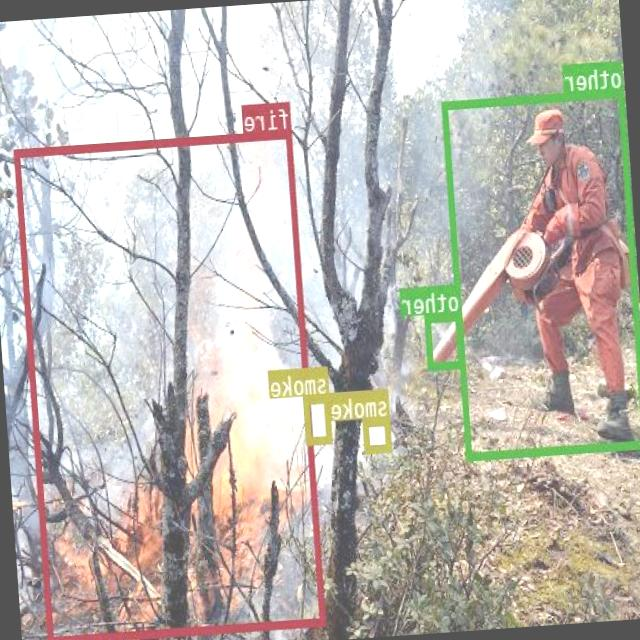fire: (14, 128, 326, 640)
smoke: (304, 394, 334, 444), (363, 414, 392, 452)
